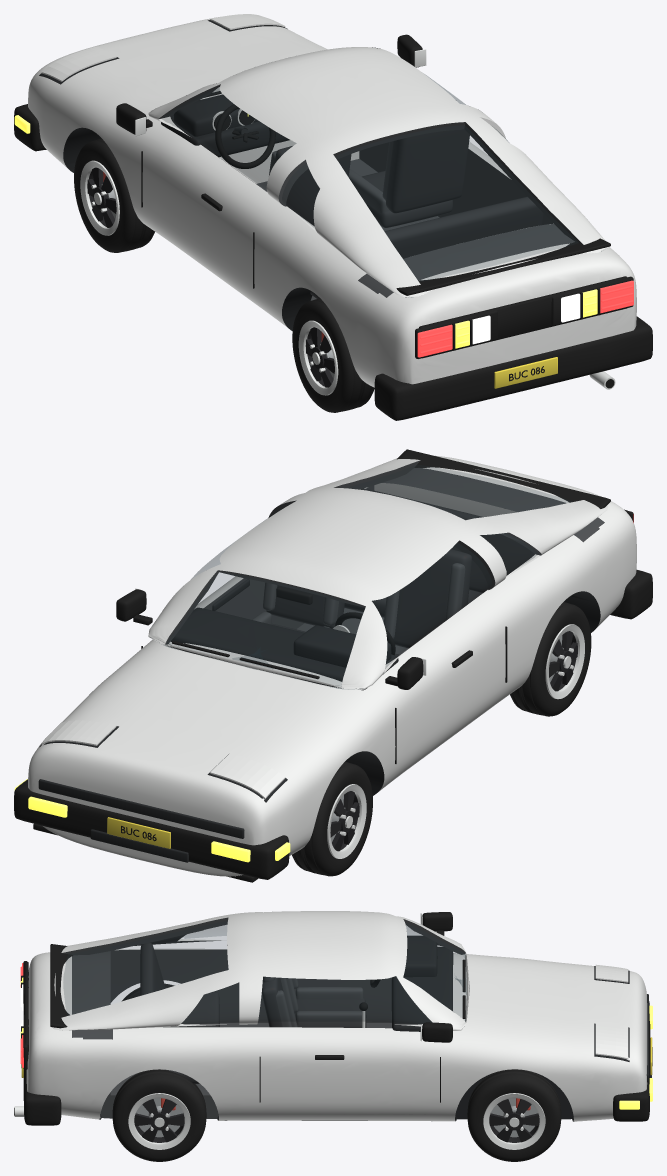
3 views of the same model, one above another, from view 1: azimuth 30°, elevation 25°; view 2: azimuth 150°, elevation 25°; view 3: azimuth 270°, elevation 25° (orthographic). The views are drawn at different scales.
Visible parts, largest first — view 1: body, greenhouse, glass, details, interior, wheel-back-left, wheel-front-left, lights, popup-left, popup-right; view 2: body, greenhouse, glass, interior, details, wheel-back-left, wheel-front-left, popup-left, lights, popup-right; view 3: body, greenhouse, glass, interior, wheel-front-right, wheel-back-right, details, popup-right, lights, popup-left.
Boxes of the visible parts, left/top/right/bottom form: body: left=28, top=17, right=636, bottom=387; greenhouse: left=148, top=47, right=607, bottom=297; glass: left=162, top=75, right=577, bottom=297; details: left=14, top=20, right=652, bottom=420; interior: left=161, top=94, right=543, bottom=298; wheel-back-left: left=292, top=298, right=374, bottom=412; wheel-front-left: left=74, top=138, right=154, bottom=252; lights: left=14, top=115, right=633, bottom=357; popup-left: left=41, top=46, right=116, bottom=81; popup-right: left=210, top=14, right=285, bottom=29; body: left=28, top=455, right=636, bottom=876; greenhouse: left=148, top=458, right=607, bottom=689; glass: left=164, top=465, right=571, bottom=689; interior: left=171, top=488, right=534, bottom=690; details: left=14, top=449, right=652, bottom=882; wheel-back-left: left=510, top=602, right=591, bottom=716; wheel-front-left: left=292, top=761, right=372, bottom=876; popup-left: left=210, top=753, right=285, bottom=799; lights: left=14, top=514, right=633, bottom=862; popup-right: left=41, top=720, right=116, bottom=745; body: left=26, top=948, right=647, bottom=1121; greenhouse: left=53, top=911, right=469, bottom=1030; glass: left=63, top=921, right=466, bottom=1024; interior: left=140, top=935, right=453, bottom=1083; wheel-front-right: left=467, top=1069, right=561, bottom=1161; wheel-back-right: left=112, top=1069, right=206, bottom=1161; details: left=14, top=912, right=652, bottom=1125; popup-right: left=595, top=1023, right=628, bottom=1059; lights: left=20, top=963, right=652, bottom=1109; popup-left: left=595, top=964, right=628, bottom=982.
Size of the model in its own units: 1.87 by 1.35 by 4.32.
